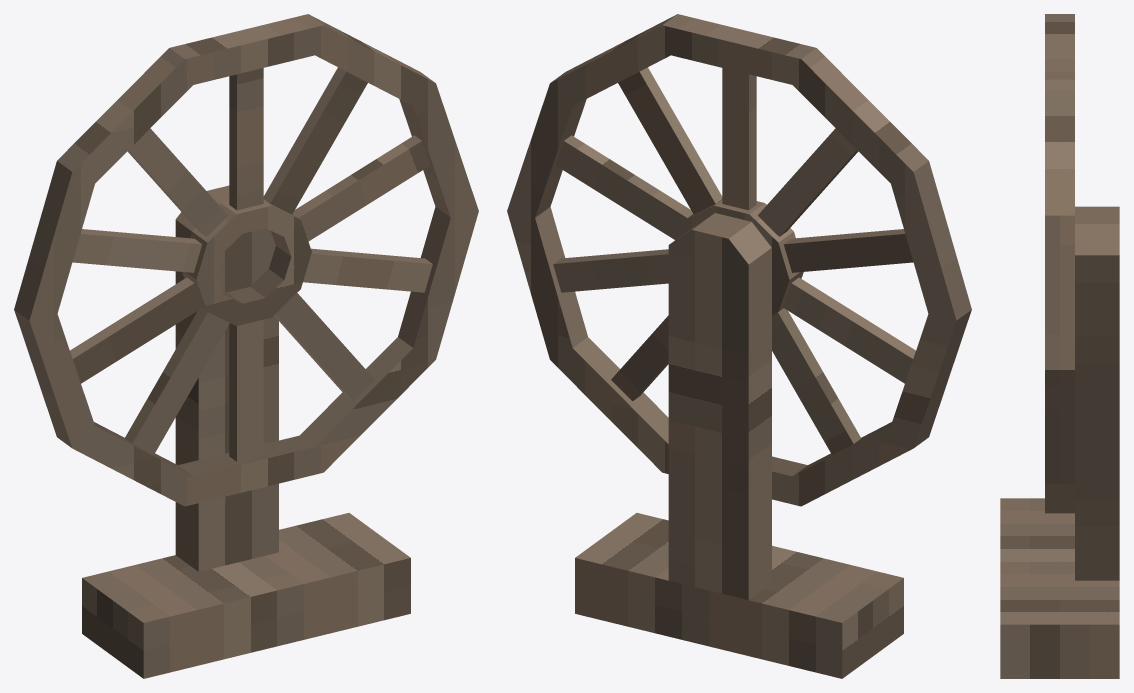
File: Timón.fbx
3 renders of one model, left to right at view 1: azimuth 30°, elevation 25°; view 2: azimuth 150°, elevation 25°; view 3: azimuth 270°, elevation 25°, orthographic. The views are drawn at different scales.
Parts seen in each view (by area): view 1: cylinder, cube_1, cube, cylinder_1, cube_11, cube_6, cube_8, cube_5, cube_7, cube_2, cube_4, cube_9 (+2 smaller); view 2: cylinder, cube, cube_1, cube_11, cube_8, cube_5, cube_6, cube_2, cube_4, cube_9, cube_3, cylinder_1 (+1 smaller); view 3: cube_1, cube, cylinder.
Boxes of the visible parts, x1,y1,x2,y2 form: cylinder: (14,14,478,506); cube_1: (82,513,410,678); cube: (175,185,278,571); cylinder_1: (182,199,311,325); cube_11: (263,67,367,214); cube_6: (124,308,229,454); cube_8: (293,135,430,241); cube_5: (70,277,202,383); cube_7: (229,319,263,461); cube_2: (229,68,263,210); cube_4: (72,229,202,272); cube_9: (303,248,432,292); cylinder: (507,14,971,506); cube: (668,213,771,600); cube_1: (575,513,903,678); cube_11: (618,67,722,214); cube_8: (555,135,692,239); cube_5: (783,277,915,383); cube_6: (772,308,861,454); cube_2: (722,68,756,210); cube_4: (783,229,913,272); cube_9: (553,249,668,292); cube_3: (758,128,858,236); cylinder_1: (679,199,803,314); cube_1: (1000,498,1119,678); cube: (1075,206,1119,580); cylinder: (1045,14,1074,513).
Bounding box in the file's own units: 105 × 131 × 25.
Materials: 1 (1 with a texture image).
